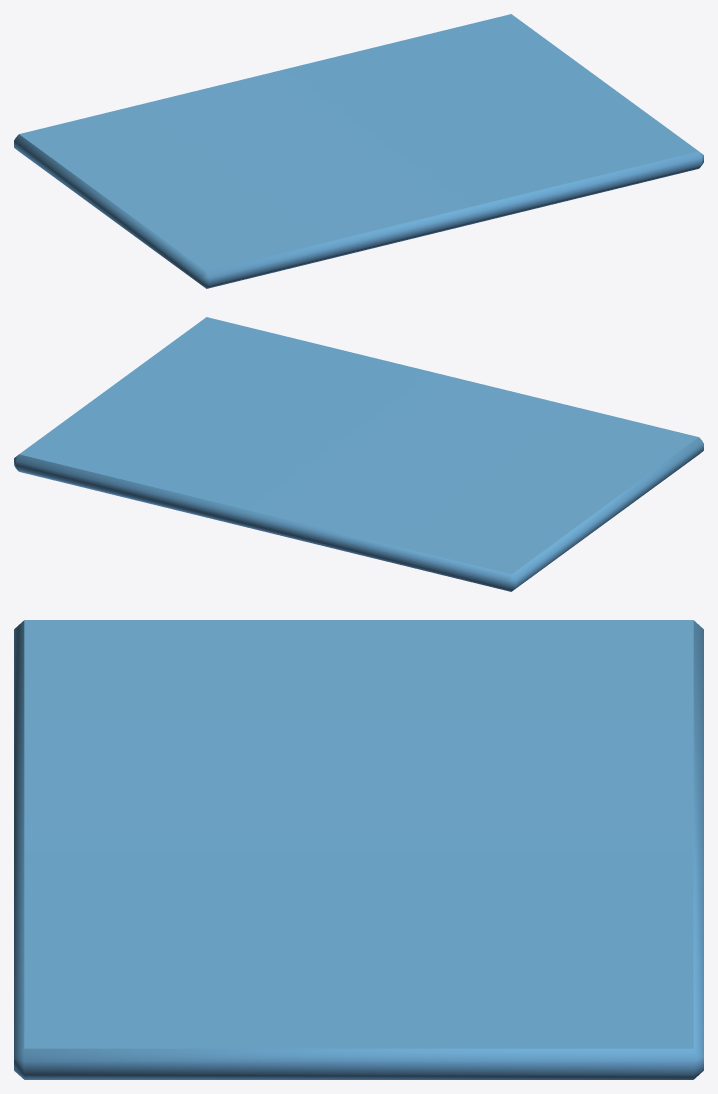
The model's file is kkf.rug_rectangle_b.glb.
3 views of the same model, one above another, from view 1: azimuth 30°, elevation 25°; view 2: azimuth 150°, elevation 25°; view 3: azimuth 270°, elevation 25° (orthographic). The views are drawn at different scales.
Visible parts, largest first — view 1: rug_rectangle_B; view 2: rug_rectangle_B; view 3: rug_rectangle_B.
Boxes of the visible parts, bbox=[...] form: rug_rectangle_B: bbox=[14, 14, 703, 288]; rug_rectangle_B: bbox=[14, 317, 703, 591]; rug_rectangle_B: bbox=[14, 620, 703, 1079].
Bounding box in the file's own units: 2.15 × 0.0715 × 1.43.
1 material, 1 textured.
